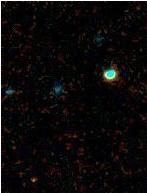star: (10, 165, 40, 193)
